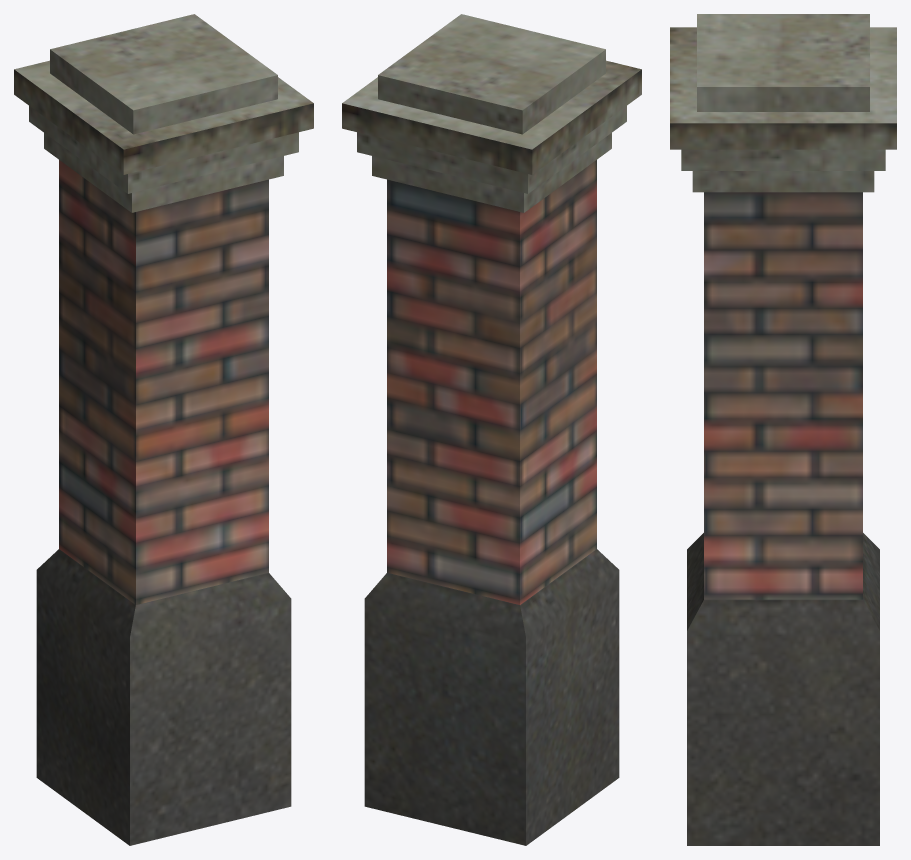
File: MiniBR_Wall002.fbx
3 views of the same model, side by side, from view 1: azimuth 30°, elevation 25°; view 2: azimuth 150°, elevation 25°; view 3: azimuth 270°, elevation 25° (orthographic). The views are drawn at different scales.
Parts seen in each view (by area): view 1: MiniBR_Wall002; view 2: MiniBR_Wall002; view 3: MiniBR_Wall002.
Boxes of the visible parts, bbox=[...] form: MiniBR_Wall002: bbox=[14, 14, 313, 845]; MiniBR_Wall002: bbox=[342, 14, 641, 845]; MiniBR_Wall002: bbox=[670, 14, 896, 845].
Bounding box in the file's own units: 50.61 × 50.61 × 186.
1 material, 1 textured.
